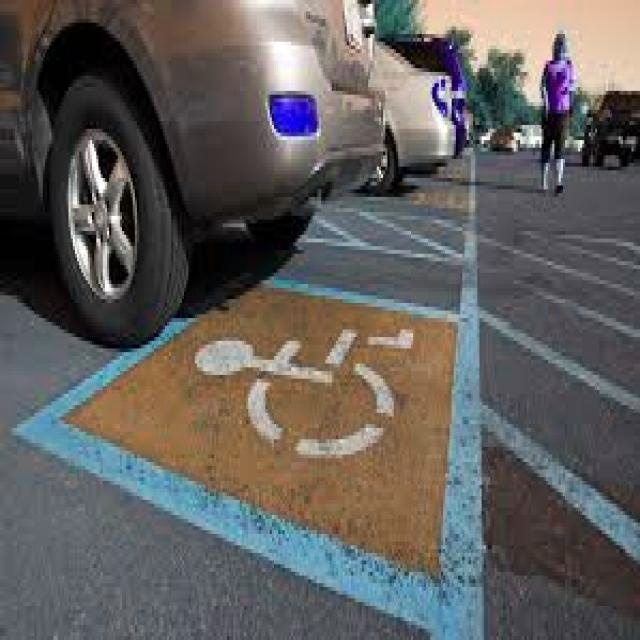ISA: (195, 327, 422, 458)
